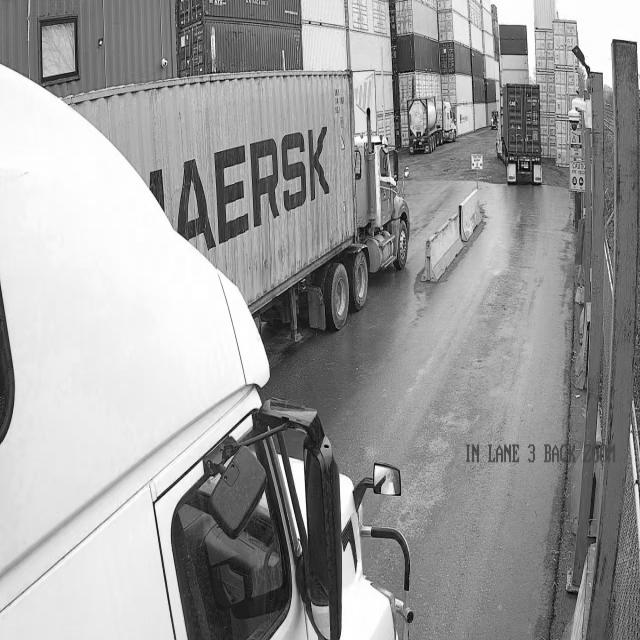truck_with_container: (65, 71, 400, 331)
